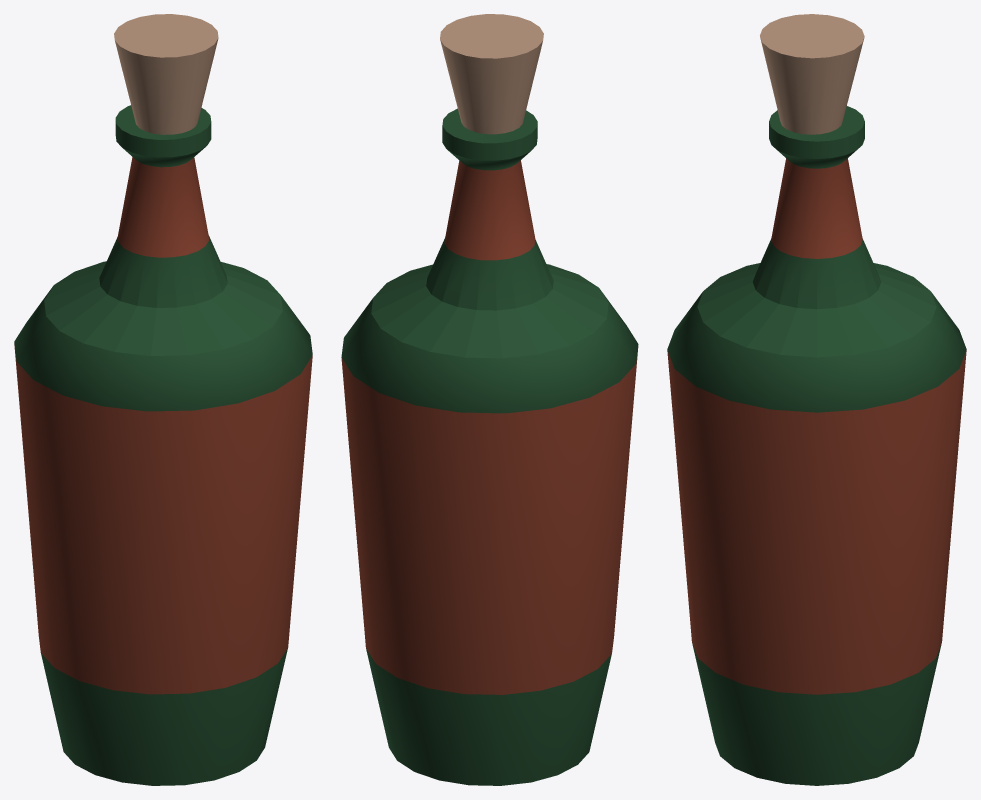
File: 01fles1_nieuwestijl.fbx
The picture shows the model from 3 angles, left to right: view 1: azimuth 30°, elevation 25°; view 2: azimuth 150°, elevation 25°; view 3: azimuth 270°, elevation 25°; orthographic projection.
Parts seen in each view (by area): view 1: pCylinder141; view 2: pCylinder141; view 3: pCylinder141.
Boxes of the visible parts, <box> form: pCylinder141: <box>14,14,312,785</box>; pCylinder141: <box>341,14,638,785</box>; pCylinder141: <box>667,14,966,785</box>.
Size of the model in its own units: 0.3334 by 0.8691 by 0.3334.
